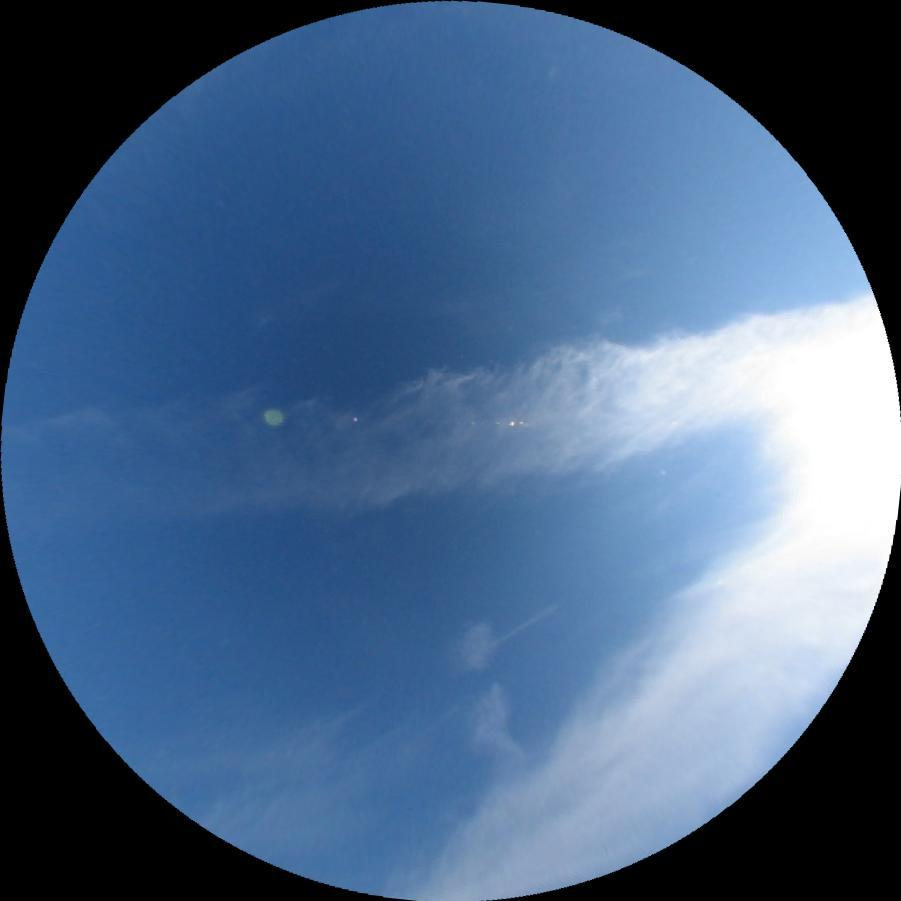contrail veryold: (0, 293, 889, 554), (443, 620, 529, 787)
unknow: (489, 601, 557, 647)
